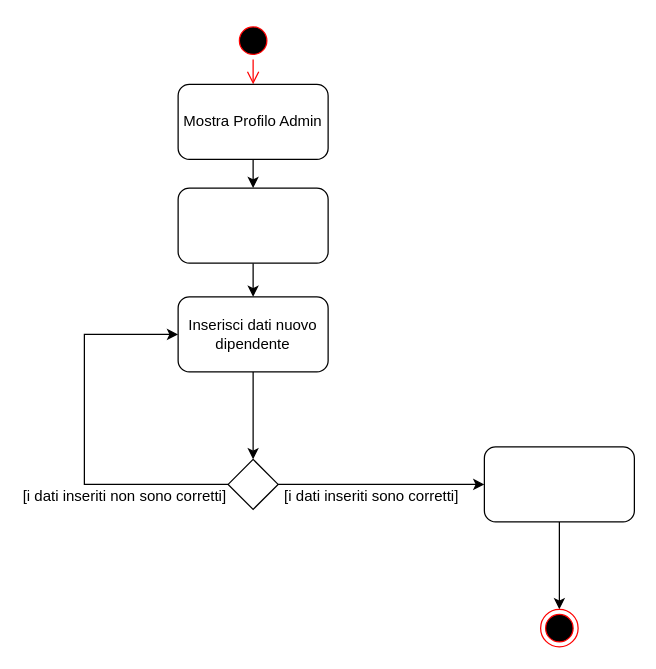
This 656x669 diagram has some shape labels left out. Each missing label, with the box of its shape:
Memorizza dipendente: (483, 446, 634, 522)
Mostra Lista Dipendenti: (177, 187, 328, 263)
